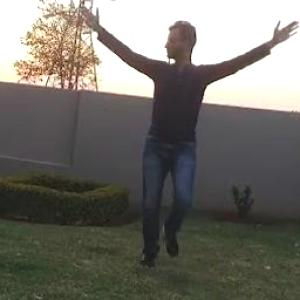takeoff: (89, 18, 295, 254)
